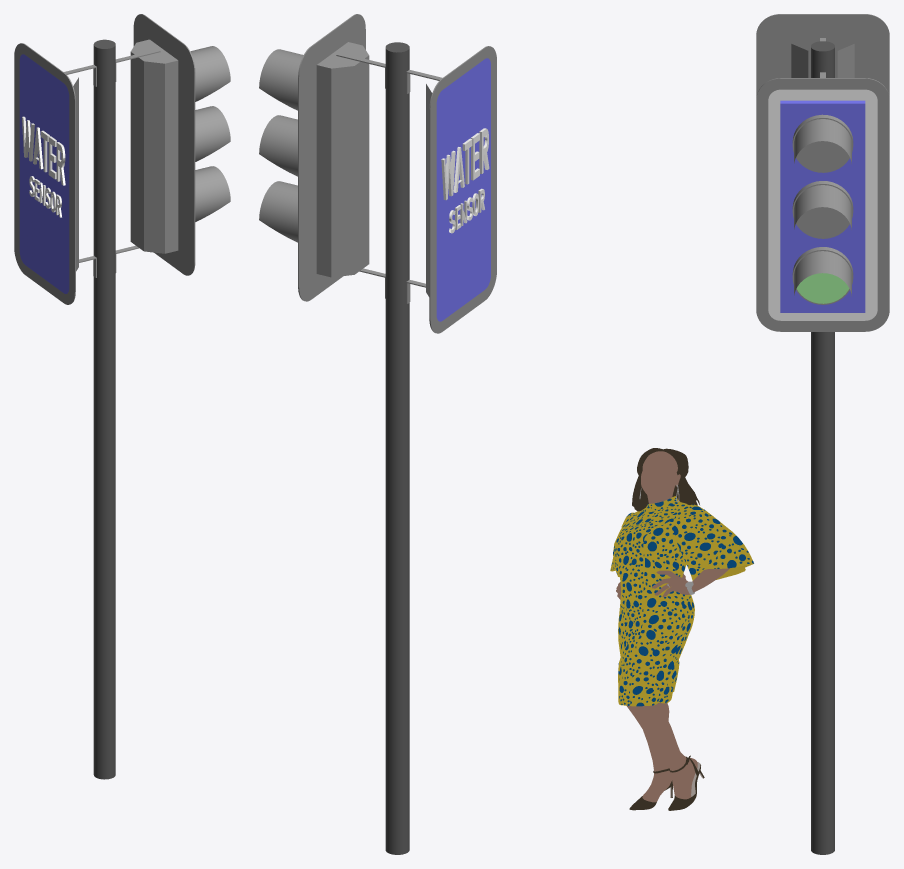
Rendered from sensor.glb.
3 views of the same model, side by side, from view 1: azimuth 30°, elevation 25°; view 2: azimuth 150°, elevation 25°; view 3: azimuth 270°, elevation 25° (orthographic). The views are drawn at different scales.
Visible parts, largest first — view 1: Traffic_Light1, Group3, Group1, WATER1, SENSOR1; view 2: Traffic_Light1, Group3, Group1, WATER1, SENSOR1; view 3: Traffic_Light1, Sumele1, Group3, Group1.
Boxes of the visible parts, x1,y1,x2,y2 form: Traffic_Light1: [115, 14, 230, 275]; Group3: [93, 39, 115, 779]; Group1: [14, 43, 96, 304]; WATER1: [22, 116, 65, 185]; SENSOR1: [29, 176, 61, 217]; Traffic_Light1: [259, 14, 385, 301]; Group3: [385, 42, 409, 854]; Group1: [406, 46, 496, 333]; WATER1: [441, 128, 489, 200]; SENSOR1: [449, 188, 484, 233]; Traffic_Light1: [756, 72, 889, 331]; Sumele1: [610, 448, 753, 810]; Group3: [811, 41, 834, 854]; Group1: [756, 14, 889, 96].
Bounding box in the file's own units: 38.78 × 144 × 45.31.
